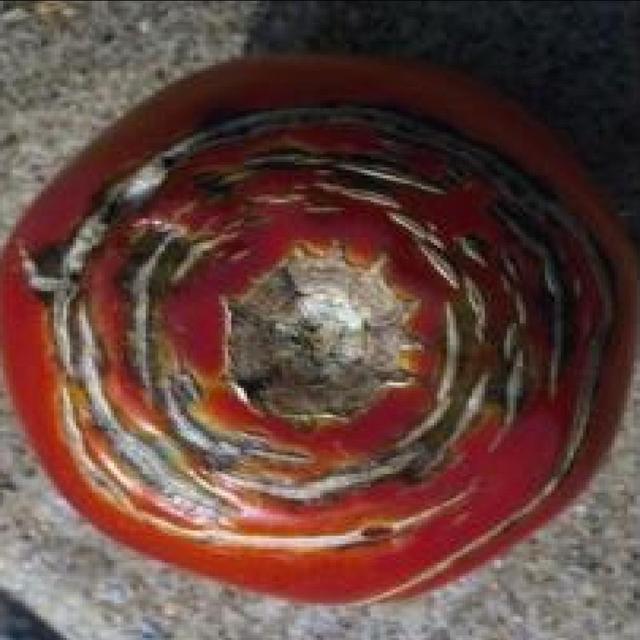Cracking Fruit: (11, 61, 411, 397)
